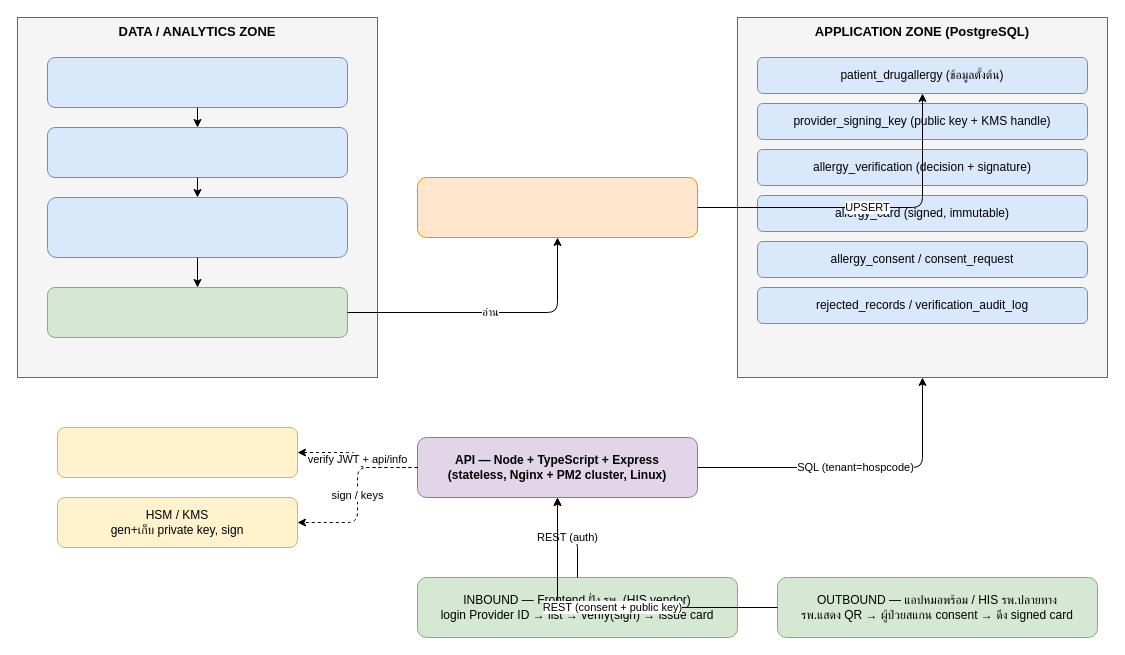
Some shapes in this 1125 by 655 pixel diagram are drawn without their labels. Each missing label, with the centre of its shape:
"ETL Loader (cronjob ทุก 24 ชม.) idempotent UPSERT — ไม่ทับ record ที่ verified" goes at (557,207).
"HDC DuckDB (db.db) person / drug_opd / drug_ipd / diagnosis_ipd" goes at (197,82).
"MOPH Provider ID (OIDC) JWKS + GET api/info" goes at (177,452).
"Patient-level output (staging)" goes at (197,312).
"Pipeline [1] sjs-ten diagnosis_ipd L51% → admit list" goes at (197,152).
"Pipeline [2] sjs-ten-ipd-drug cross-hospital retro search (CID) + TMT + classify" goes at (197,227).
